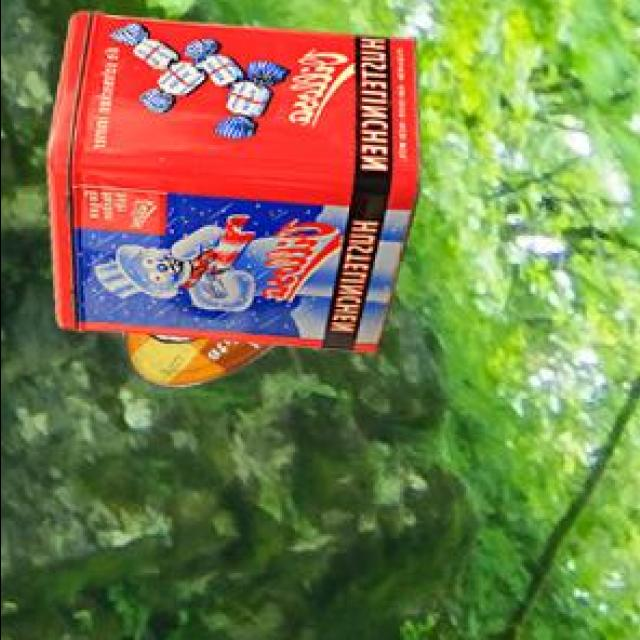logam: (51, 16, 423, 356), (124, 335, 278, 390)
